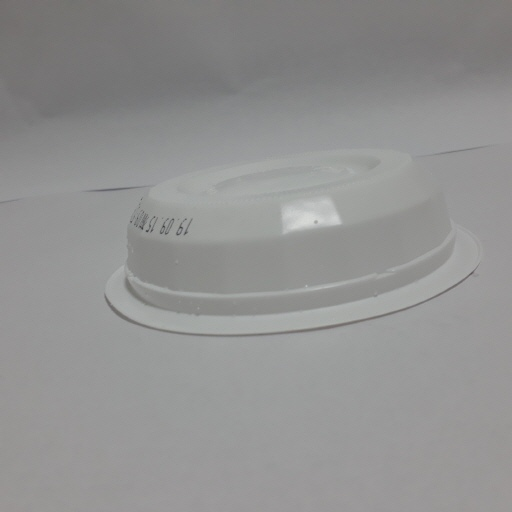Plastic_5: (97, 143, 481, 335)
